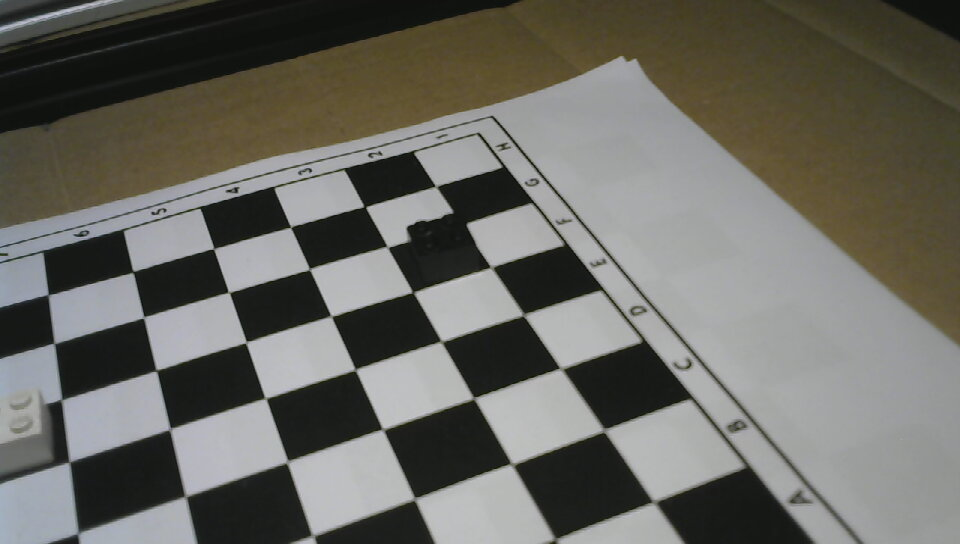bp: (403, 207, 484, 286)
